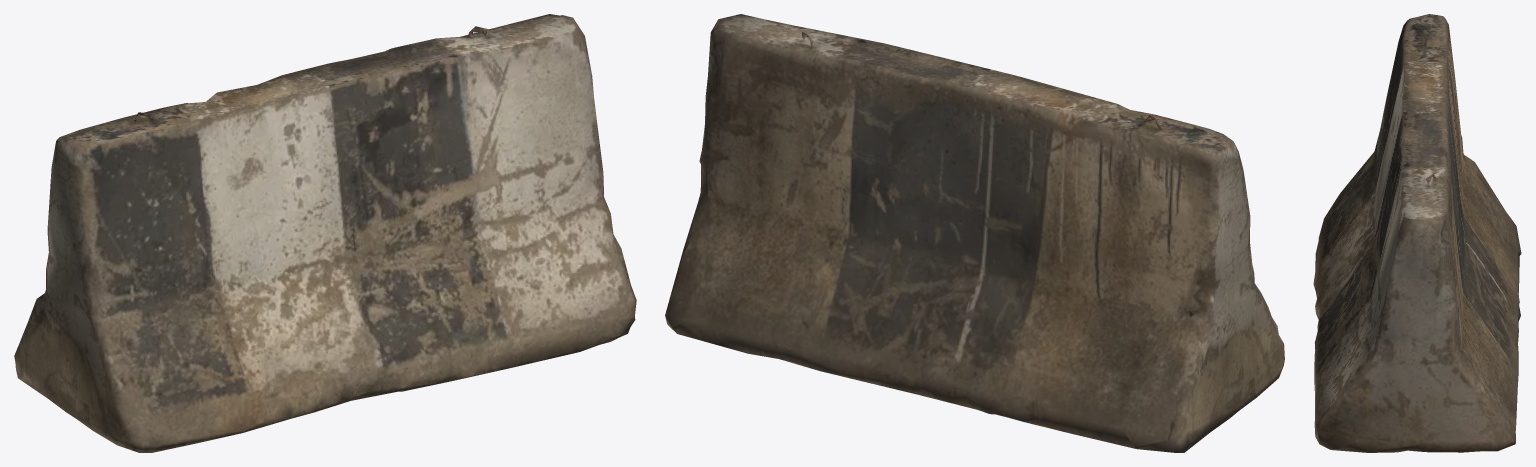
File: concrete_road_barrier.gltf
3 views of the same model, side by side, from view 1: azimuth 30°, elevation 25°; view 2: azimuth 150°, elevation 25°; view 3: azimuth 270°, elevation 25° (orthographic). The views are drawn at different scales.
Visible parts, largest first — view 1: concrete_road_barrier; view 2: concrete_road_barrier; view 3: concrete_road_barrier.
Boxes of the visible parts, x1,y1,x2,y2 form: concrete_road_barrier: (14, 14, 636, 452); concrete_road_barrier: (665, 14, 1284, 452); concrete_road_barrier: (1313, 14, 1521, 452).
Bounding box in the file's own units: 1.54 × 0.8276 × 0.6387.
Materials: 1 (1 with a texture image).
